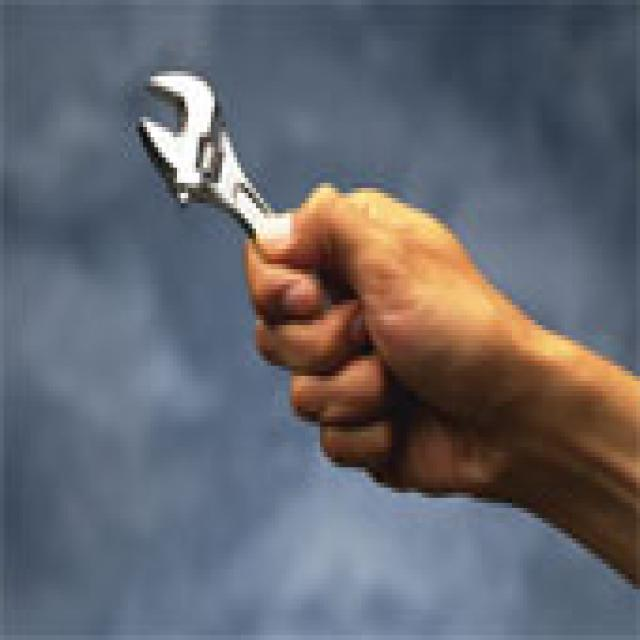wrench: (135, 64, 333, 304)
